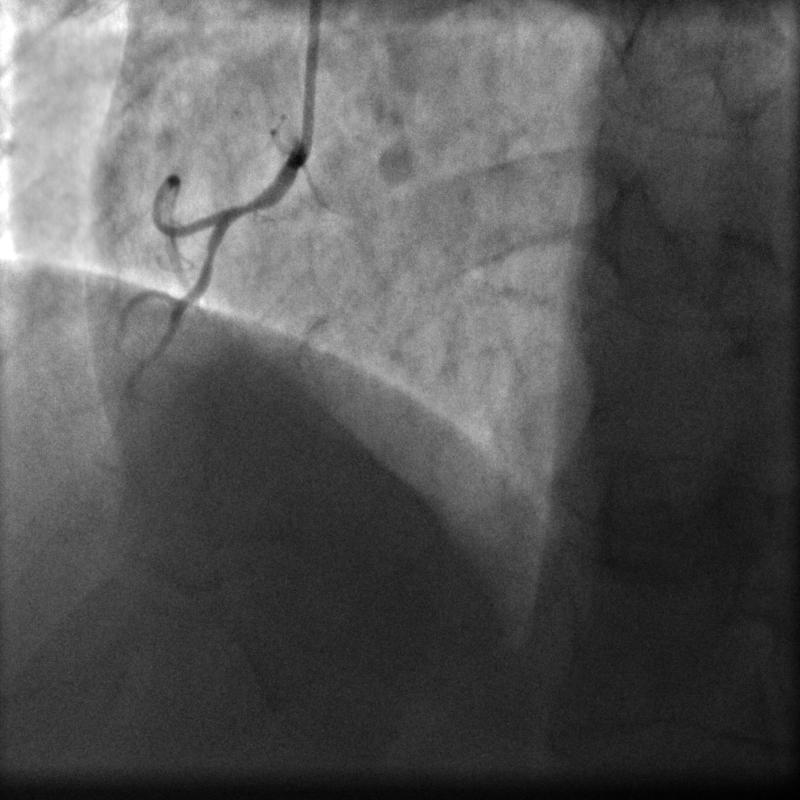Stenosis: (229, 188, 270, 219)
